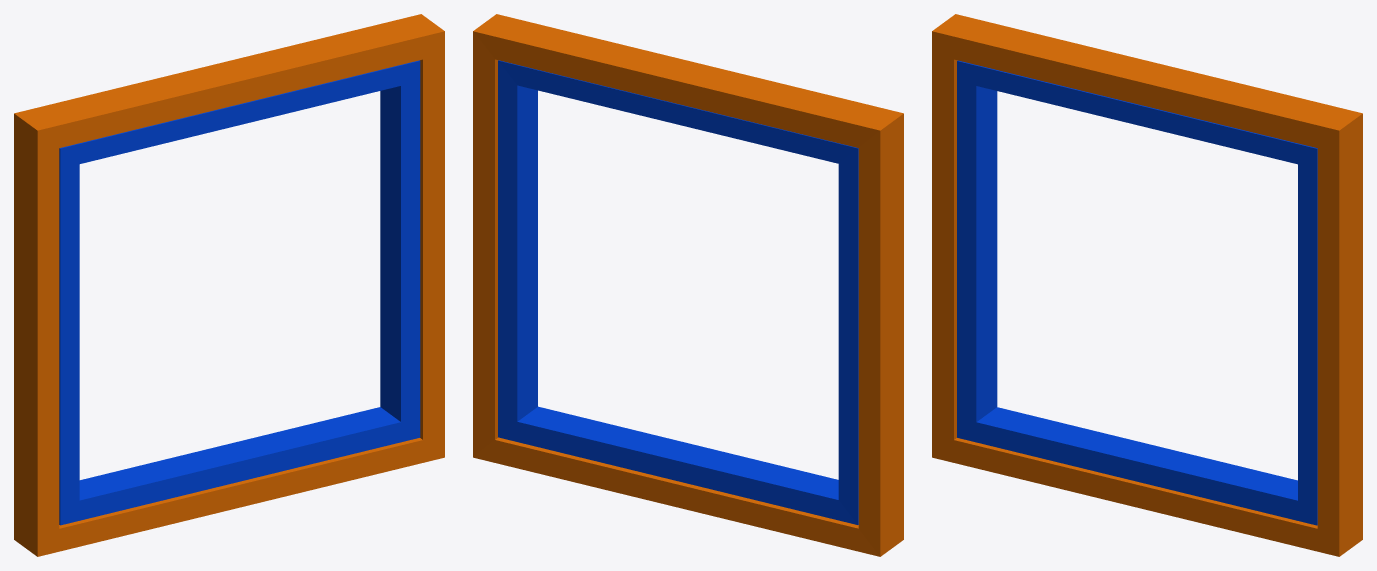
File: Fonsteranim.glb
3 renders of one model, left to right at view 1: azimuth 30°, elevation 25°; view 2: azimuth 150°, elevation 25°; view 3: azimuth 330°, elevation 25°, orthographic.
Parts seen in each view (by area): view 1: Ytterkarm, Innerkarm; view 2: Ytterkarm, Innerkarm; view 3: Ytterkarm, Innerkarm.
Boxes of the visible parts, x1,y1,x2,y2 form: Ytterkarm: [14, 14, 444, 556]; Innerkarm: [59, 60, 420, 525]; Ytterkarm: [473, 14, 903, 556]; Innerkarm: [498, 60, 858, 524]; Ytterkarm: [932, 14, 1362, 556]; Innerkarm: [957, 60, 1317, 525].
Size of the model in its own units: 2 by 2 by 0.2005.
